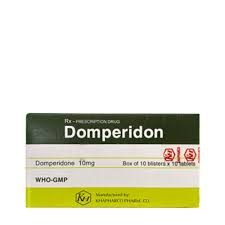Domperidone: (63, 124, 163, 140)
